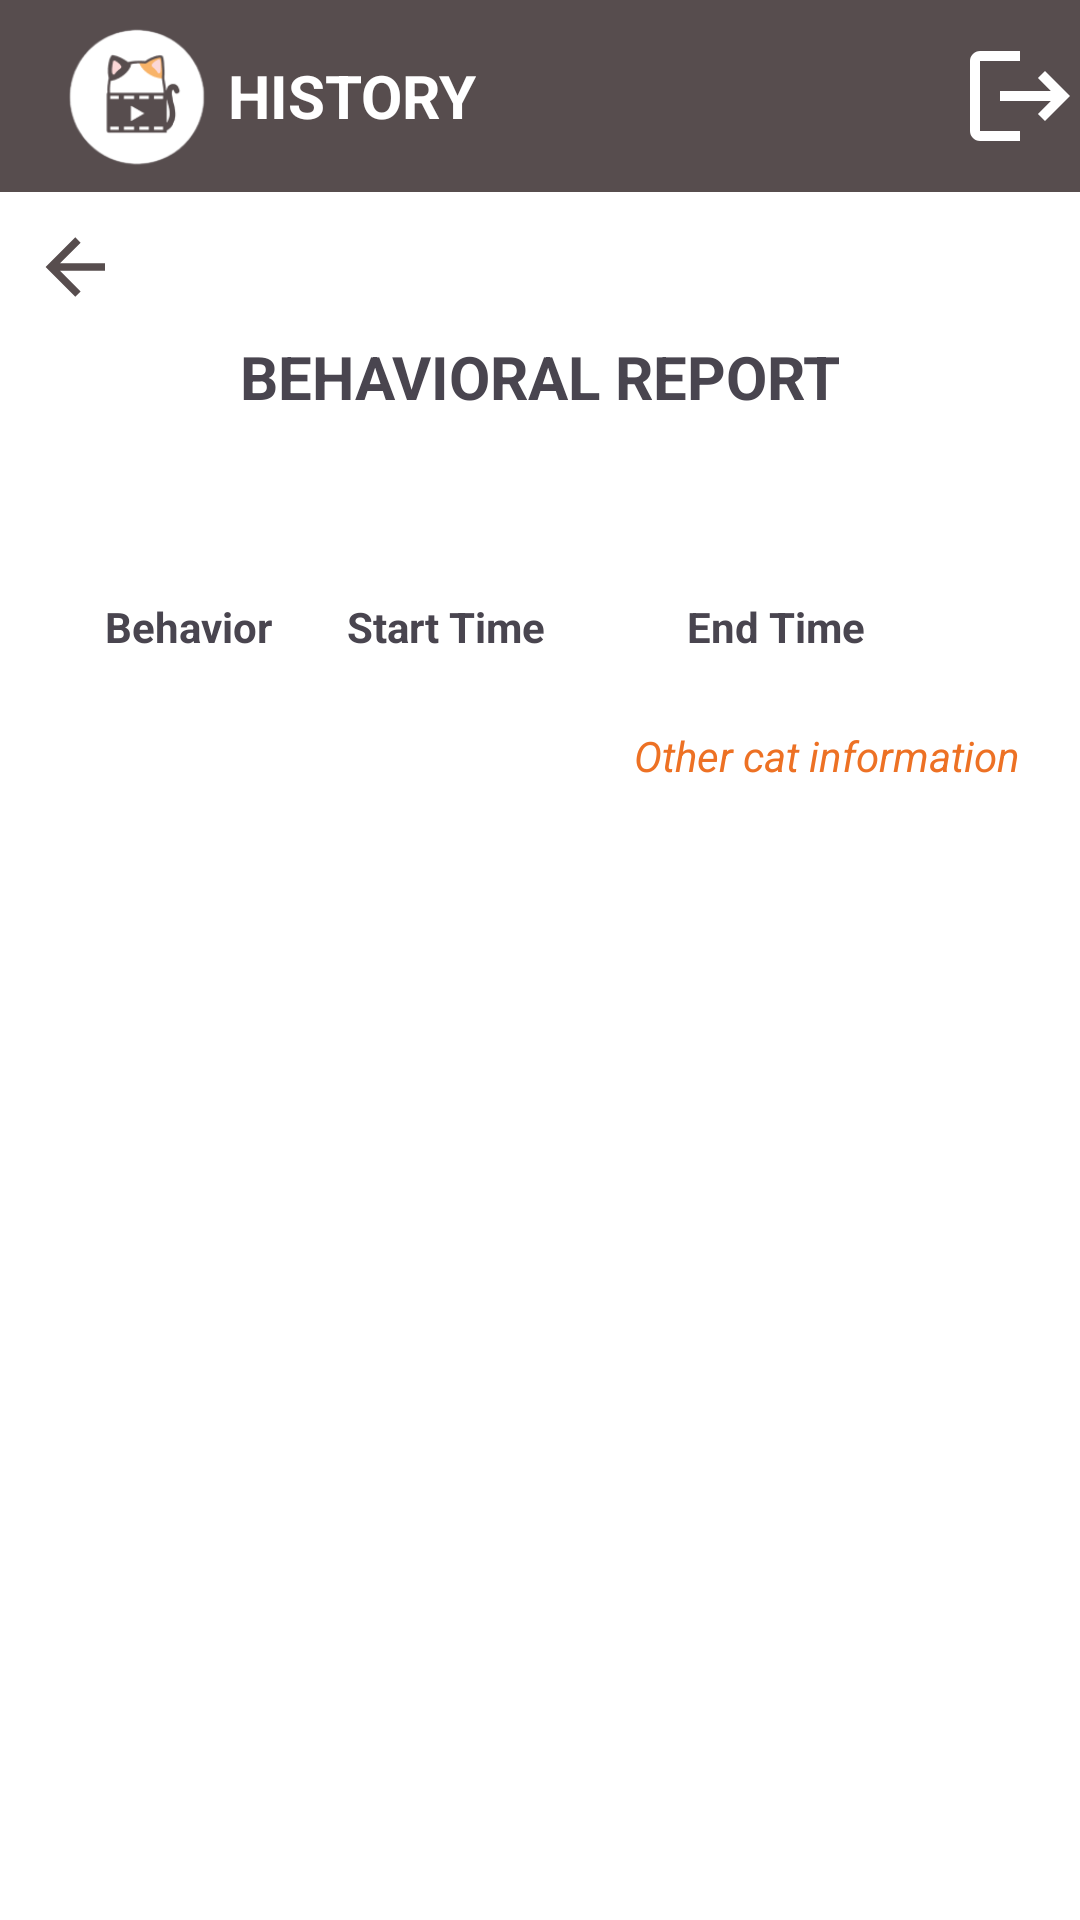

Icons on this 1080 x 1920 Android screen, each with its box as (left=x1, top=y1, right=x2, bottom=y2):
back: (left=46, top=237, right=105, bottom=297)
